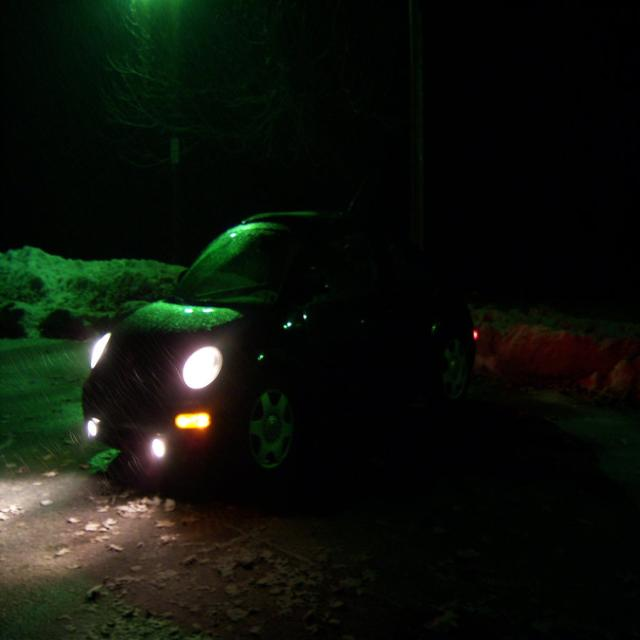car: (52, 204, 489, 531)
